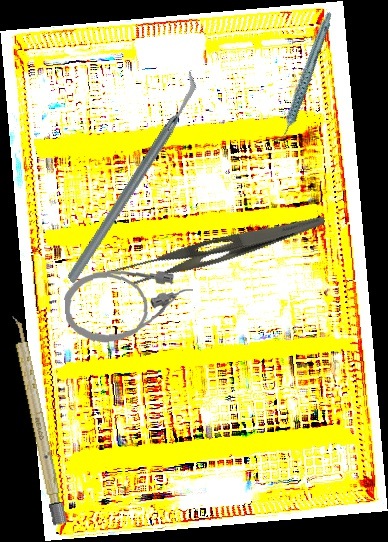Cannula: (62, 264, 197, 346)
Chopper: (10, 69, 254, 285)
Dressing Forceps: (113, 192, 327, 299)
Handpiece: (249, 10, 358, 145)
Scalpel Handle: (8, 313, 68, 527)
